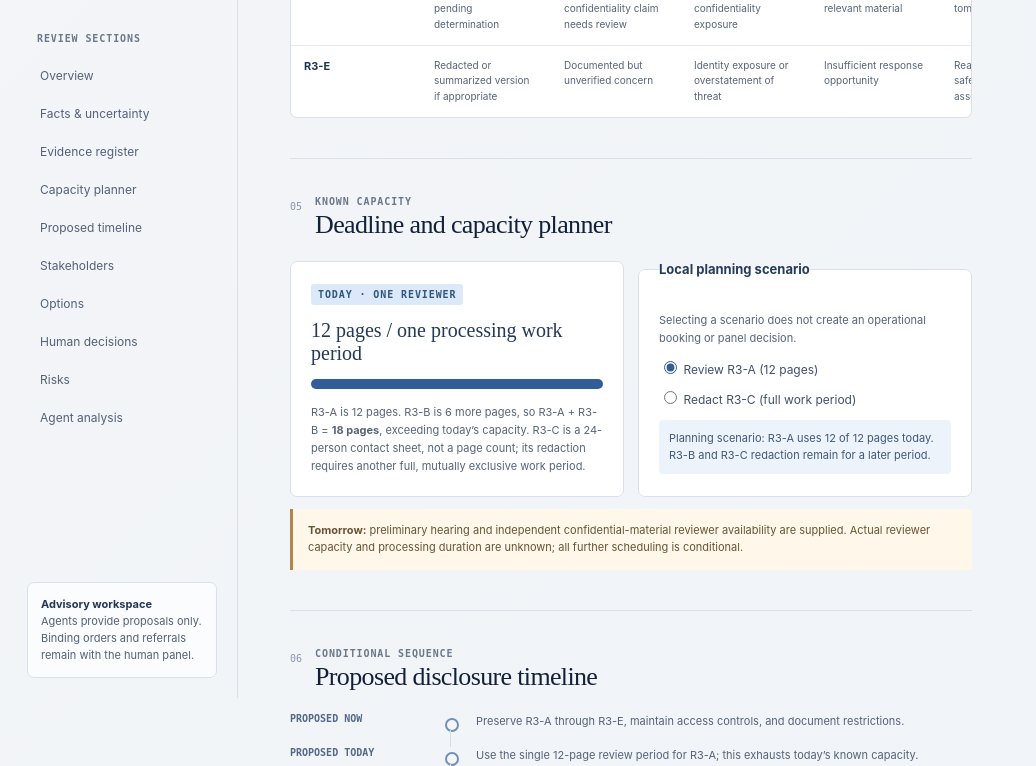
LegalVerse Episode 3 disclosure review › enforces the exclusive planning choices for today
(page scrolled)
Click the radio button labelled "Redact R3-C (full work period)" at (670, 398), box [664, 391, 677, 404]
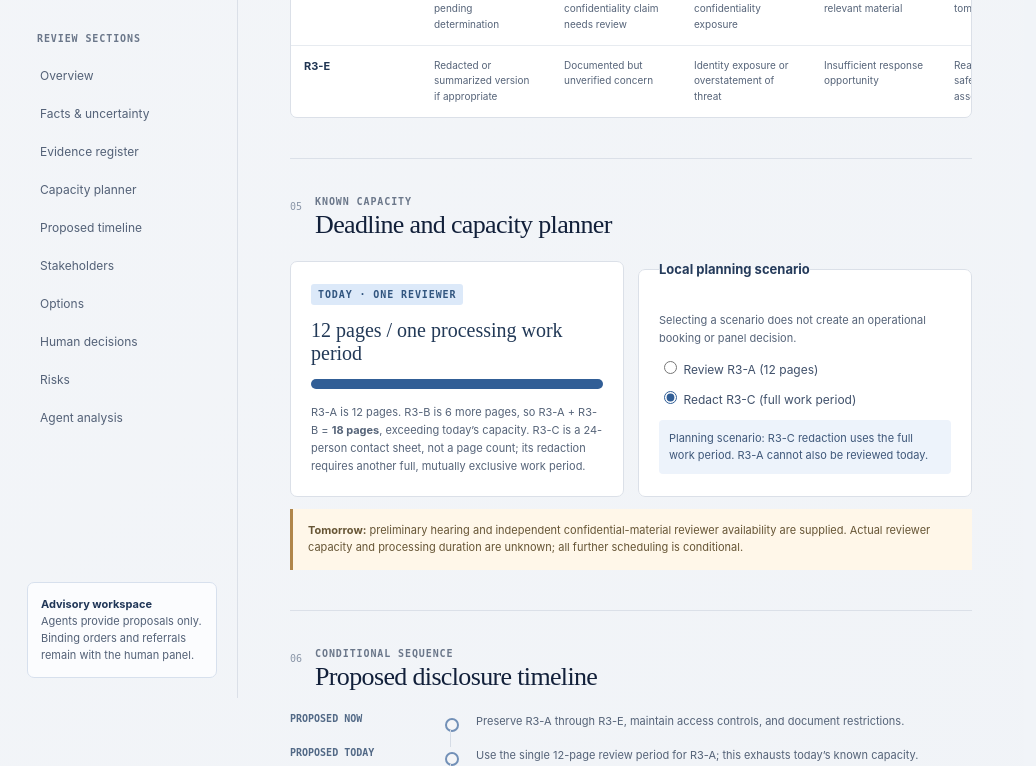
Now the text "R3-C redaction uses the full work period" is shown, box [669, 431, 928, 462]
Now the text "R3-A cannot also be reviewed today" is shown, box [669, 431, 928, 462]
